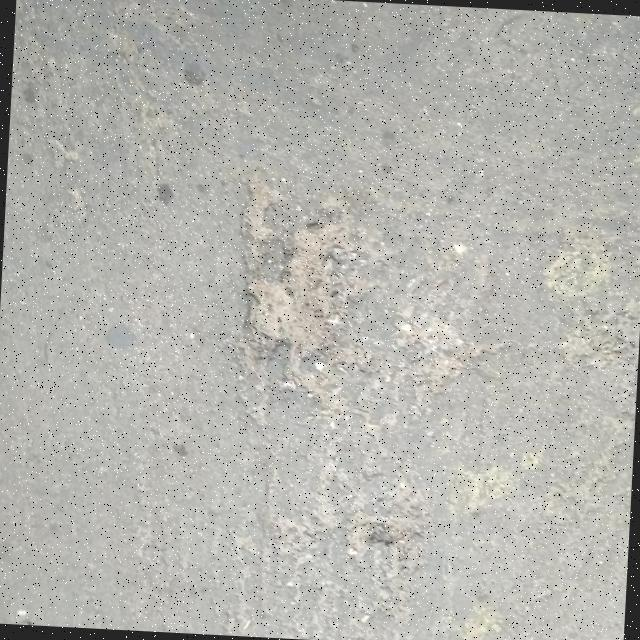Pothole: (239, 170, 401, 413)
